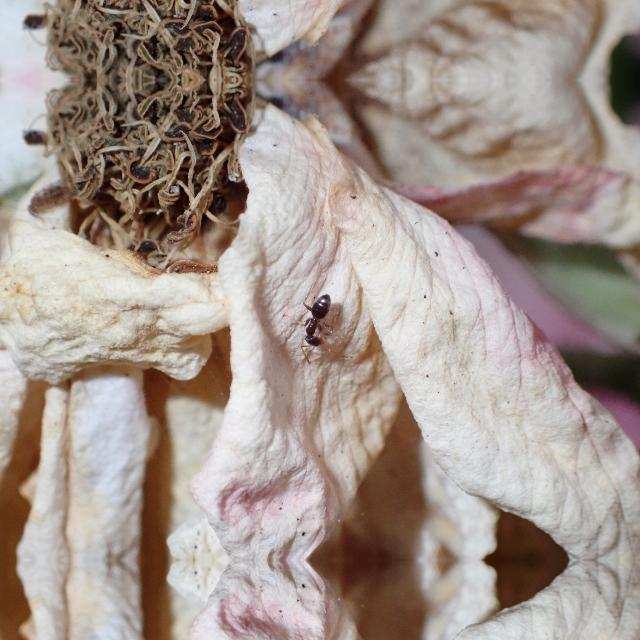Tapinoma: (288, 286, 344, 354)
